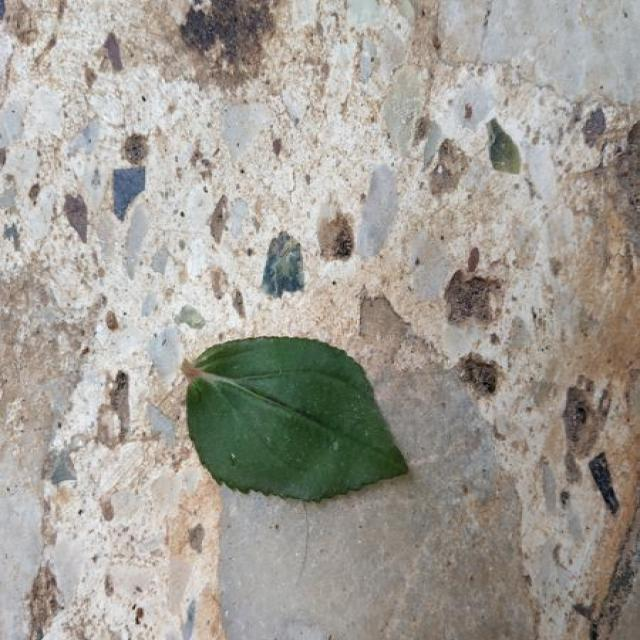Astma_weed: (183, 338, 408, 501)
